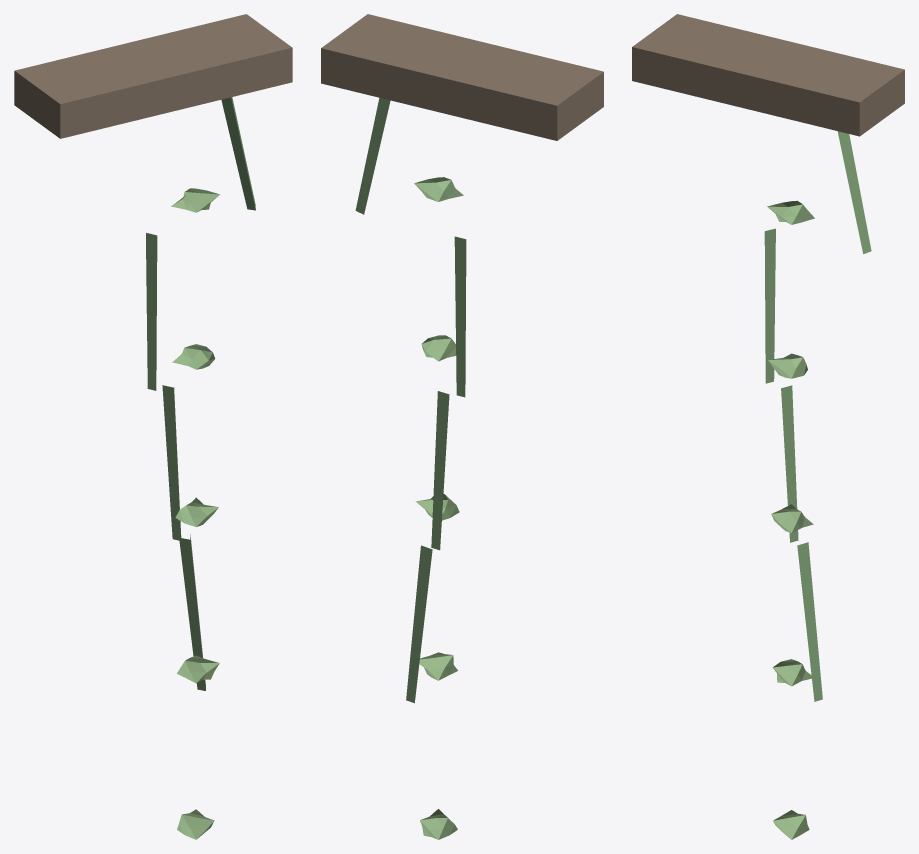
Rendered from vine_v14.glb.
3 renders of one model, left to right at view 1: azimuth 30°, elevation 25°; view 2: azimuth 150°, elevation 25°; view 3: azimuth 330°, elevation 25°, orthographic. The views are drawn at different scales.
Visible parts, largest first — view 1: lod0; view 2: lod0; view 3: lod0.
Boxes of the visible parts, x1,y1,x2,y2 form: lod0: (14, 14, 292, 839); lod0: (321, 14, 603, 839); lod0: (632, 14, 904, 839).
Size of what is drawn, in the model's own units: 0.7 by 2.25 by 0.2465.
